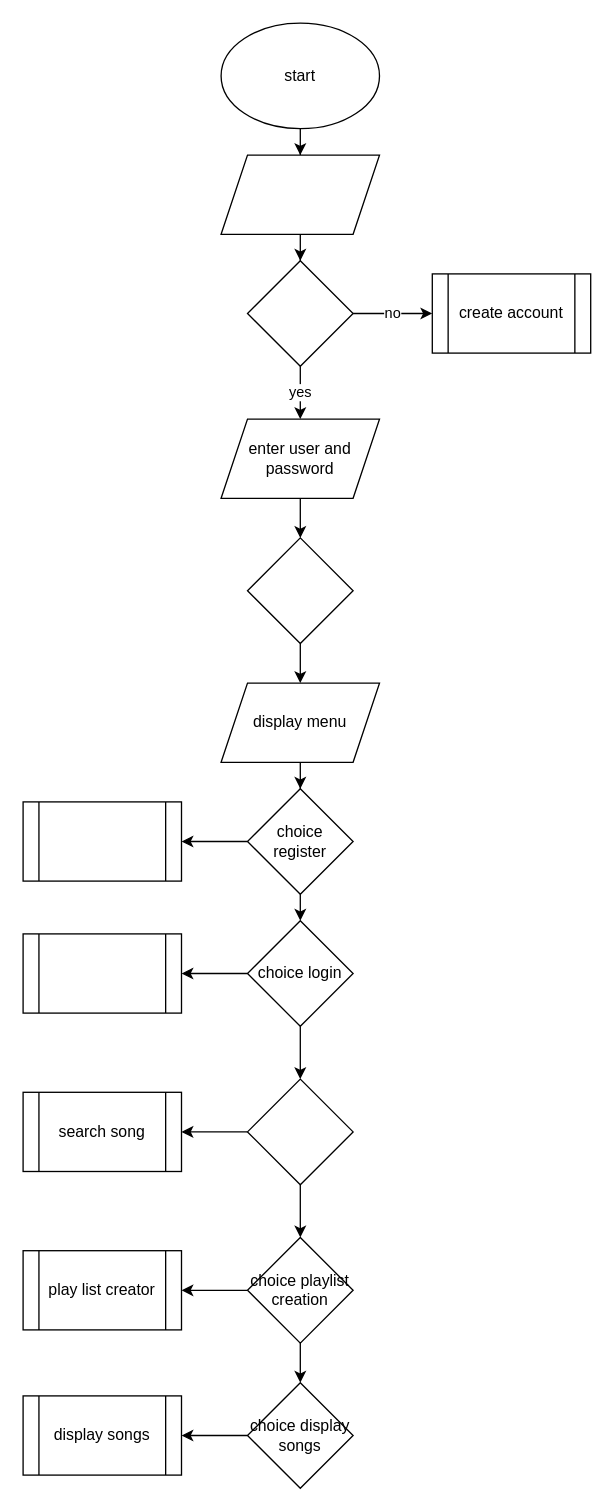
Image size: 614x1511. Some labels were removed from this diagram. The centre of each missing label's shape, as x and y in pixels:
choice search: pixel 299 1131
if choice == "y": pixel 299 312
login: pixel 102 973
print login / create account: pixel 300 194
register: pixel 102 841
user + password is correct: pixel 299 590
